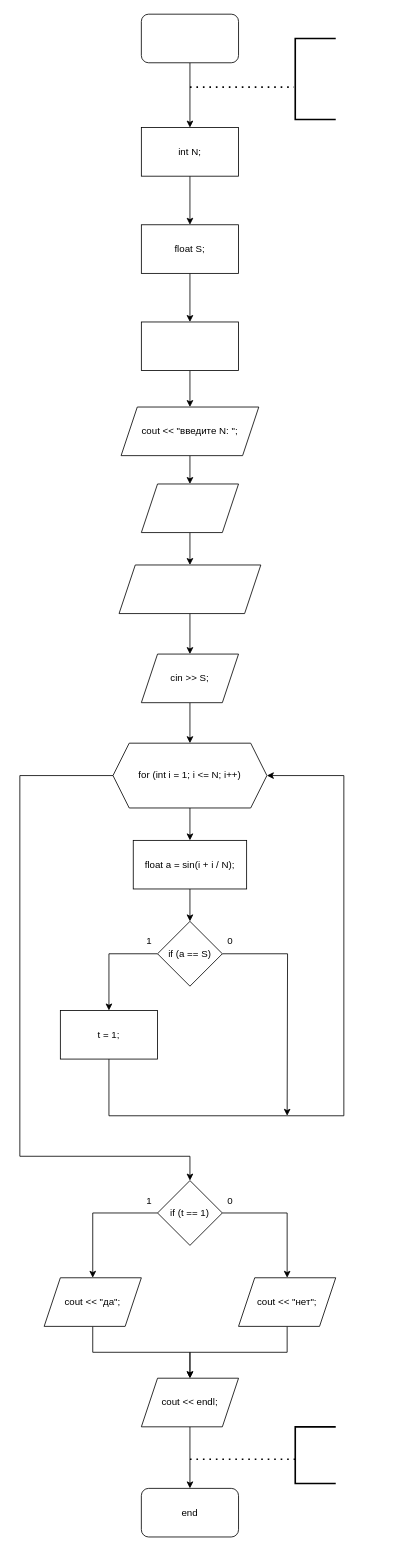
Some shapes in this 406 by 1551 pixel diagram are drawn without their labels. The shapes that lost their labels are listed below. From the top down, each one's box as (x1, y1, x2, y2) in pixels, then its label:
(141, 13, 239, 63): start
(294, 37, 336, 120): #include <iostream> #include <cmath> using namespace std; int main ()
(141, 321, 239, 371): bool t = 0;
(141, 483, 239, 533): cin >> N;
(118, 564, 261, 614): cout << "введите S: ";
(294, 1426, 336, 1484): return 0;
